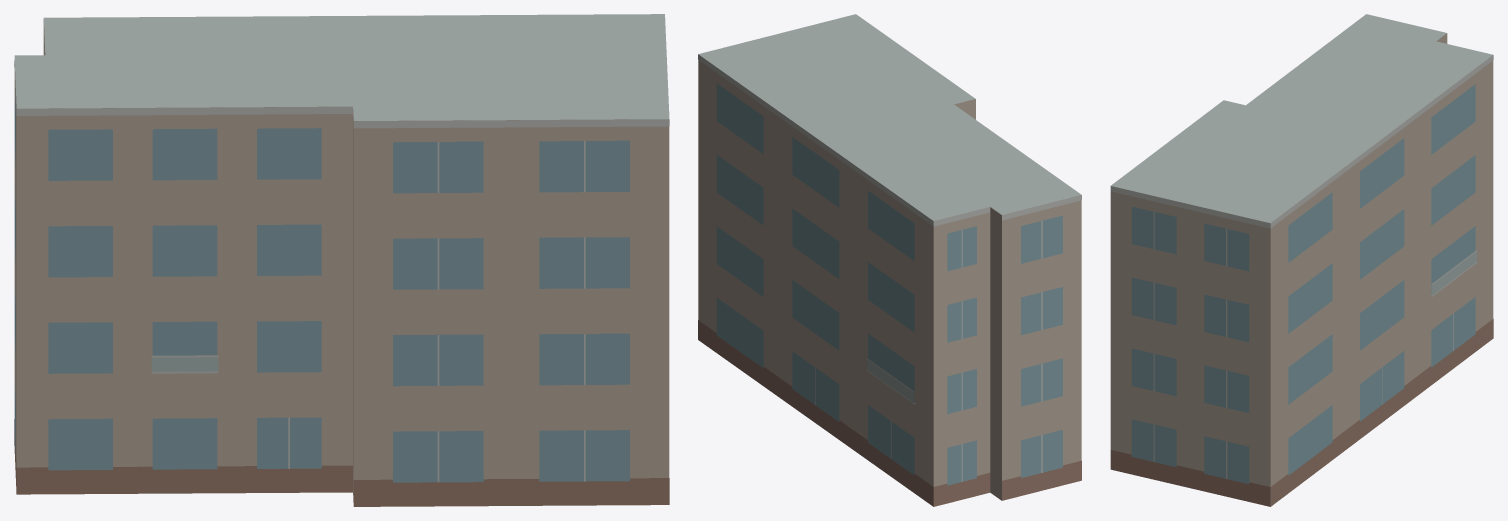
The model's file is survey-upis-32802443.glb.
3 renders of one model, left to right at view 1: azimuth 30°, elevation 25°; view 2: azimuth 150°, elevation 25°; view 3: azimuth 270°, elevation 25°, orthographic. The views are drawn at different scales.
Parts seen in each view (by area): view 1: survey-upis-32802443.tmp; view 2: survey-upis-32802443.tmp; view 3: survey-upis-32802443.tmp.
Part boxes in pixels (box(x1,y1,x2,y2)): survey-upis-32802443.tmp: box(14, 14, 669, 506); survey-upis-32802443.tmp: box(698, 14, 1081, 506); survey-upis-32802443.tmp: box(1110, 14, 1493, 506).
Size of the model in its own units: 20.26 by 12.8 by 15.67.
